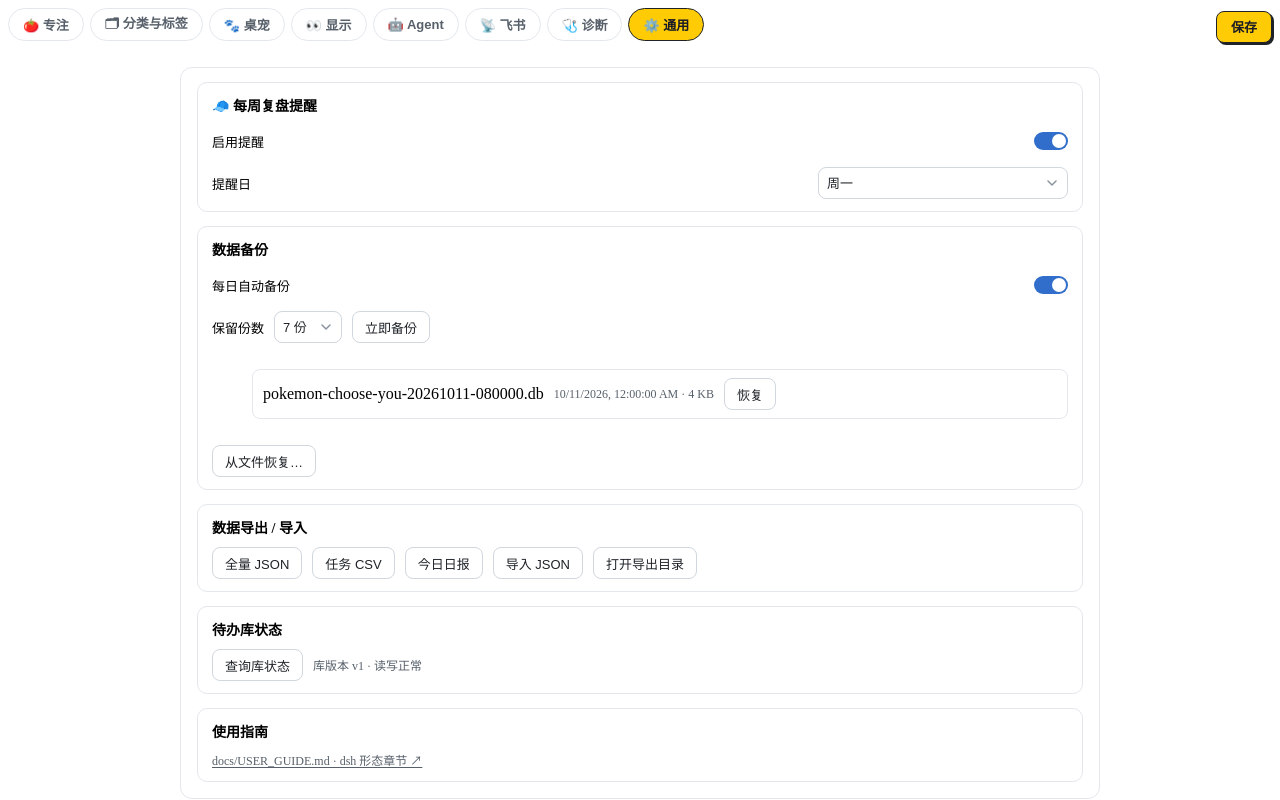
it: 导出卡两新按钮（U25） › 打开导出目录失败 → 原因 + 可手动前往路径（hint 承载）
The width and height of the screenshot is (1280, 800).
Click the button with test id "export-dir-open" at coordinates (645, 563), box 593,547 -> 697,579
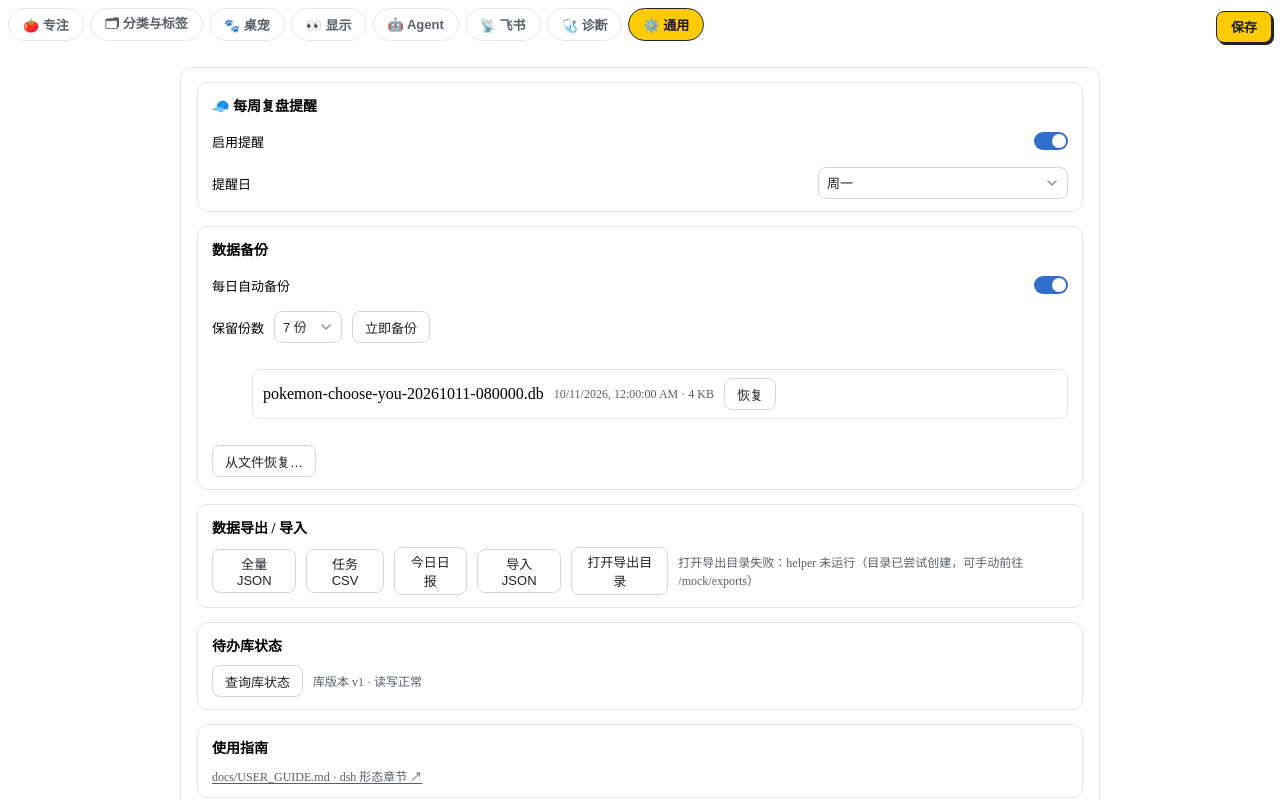
Expected: the text with test id "export-msg" shows "打开导出目录失败：helper 未运行", 678,556 -> 1023,588
Expected: the text with test id "export-msg" shows "/mock/exports", 678,556 -> 1023,588
